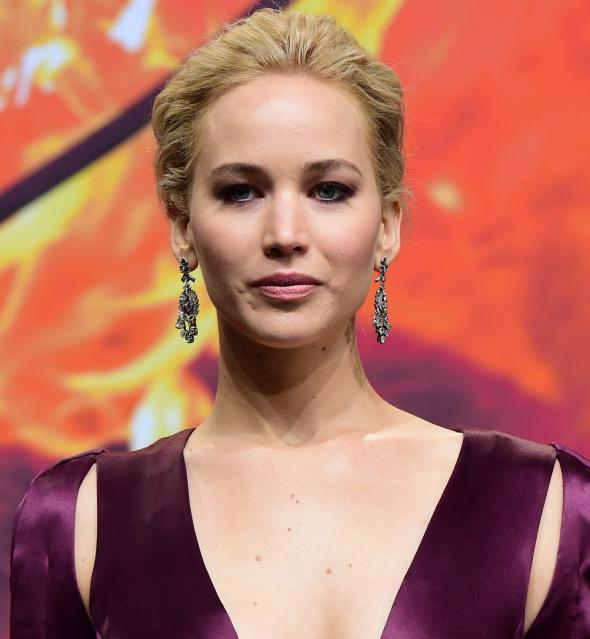mole: (320, 563, 340, 580), (247, 551, 268, 565), (281, 524, 298, 536), (318, 344, 331, 357)
